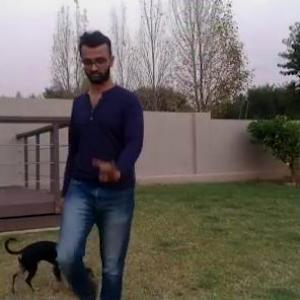takeoff-hand: (90, 155, 121, 186)
